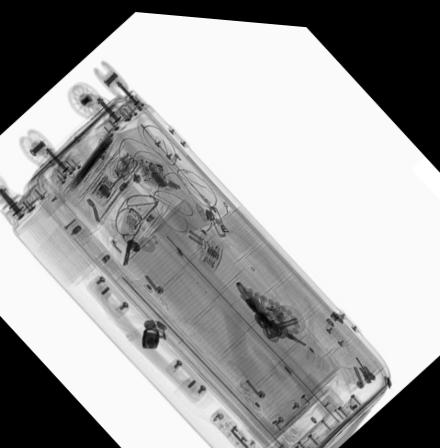Lighter: (88, 131, 115, 163)
